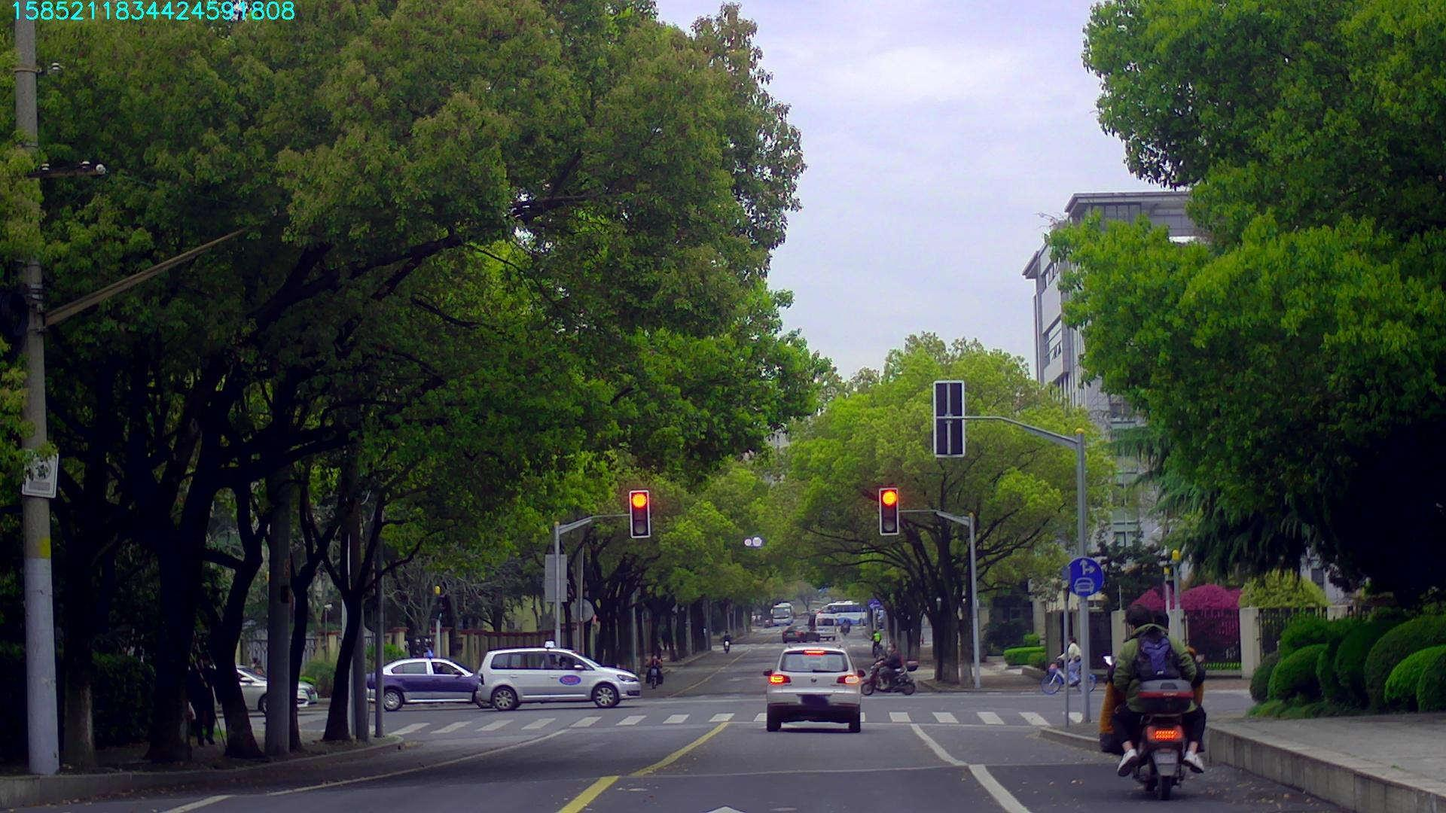red: (879, 488, 898, 534), (630, 491, 648, 537)
